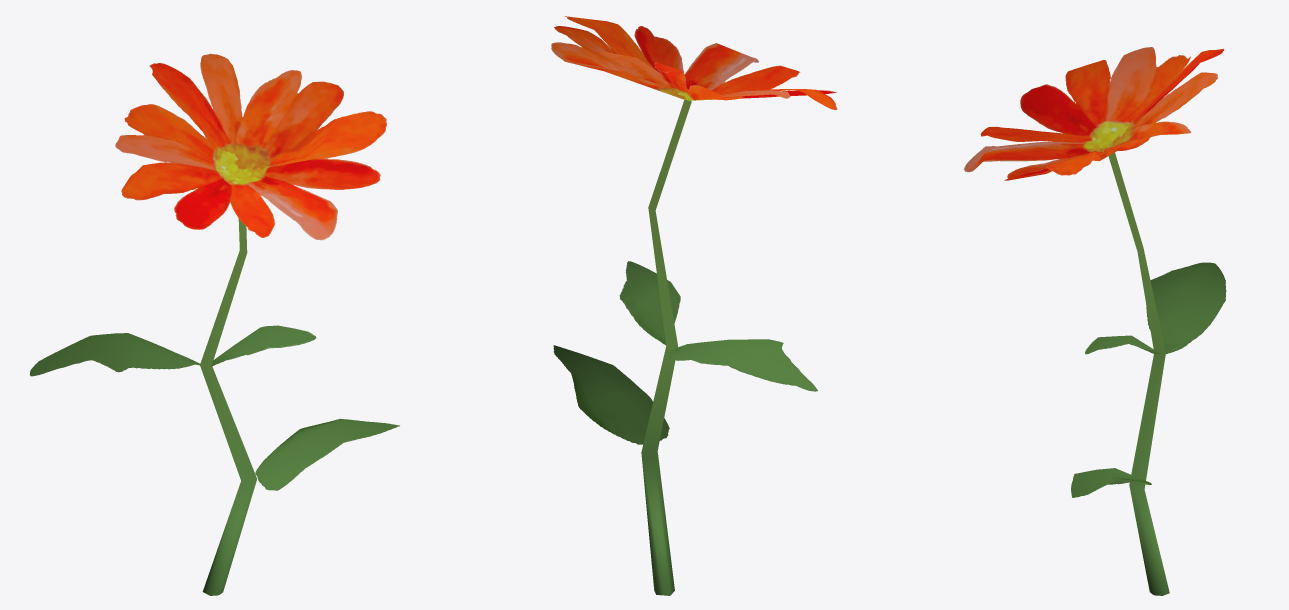
File: FlowerE.fbx
The picture shows the model from 3 angles, left to right: view 1: azimuth 30°, elevation 25°; view 2: azimuth 150°, elevation 25°; view 3: azimuth 270°, elevation 25°; orthographic projection. The views are drawn at different scales.
Parts seen in each view (by area): view 1: FlowerE_LOD0; view 2: FlowerE_LOD0; view 3: FlowerE_LOD0.
Part boxes in pixels (<box>): FlowerE_LOD0: <box>30,53,399,595</box>; FlowerE_LOD0: <box>551,16,837,595</box>; FlowerE_LOD0: <box>963,47,1226,595</box>.
Size of what is drawn, in the model's own units: 30.18 by 42.32 by 23.58.
